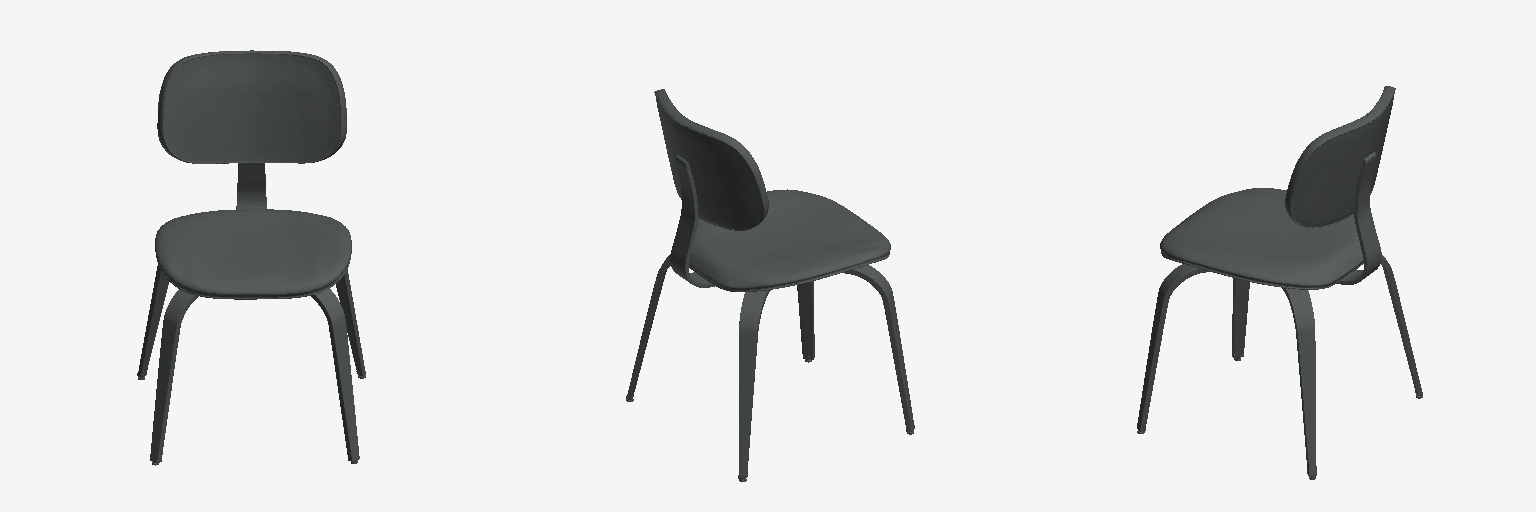
The picture shows the model from 3 angles: view 1: azimuth 30°, elevation 25°; view 2: azimuth 150°, elevation 25°; view 3: azimuth 270°, elevation 25°; orthographic projection.
Parts seen in each view (by area): view 1: solid_001_wire; view 2: solid_001_wire; view 3: solid_001_wire.
Part boxes in pixels (left/top/right/bottom): solid_001_wire: left=137, top=50, right=365, bottom=465; solid_001_wire: left=626, top=89, right=914, bottom=481; solid_001_wire: left=1137, top=86, right=1422, bottom=479.
Bounding box in the file's own units: 0.6903 × 0.8576 × 0.684.